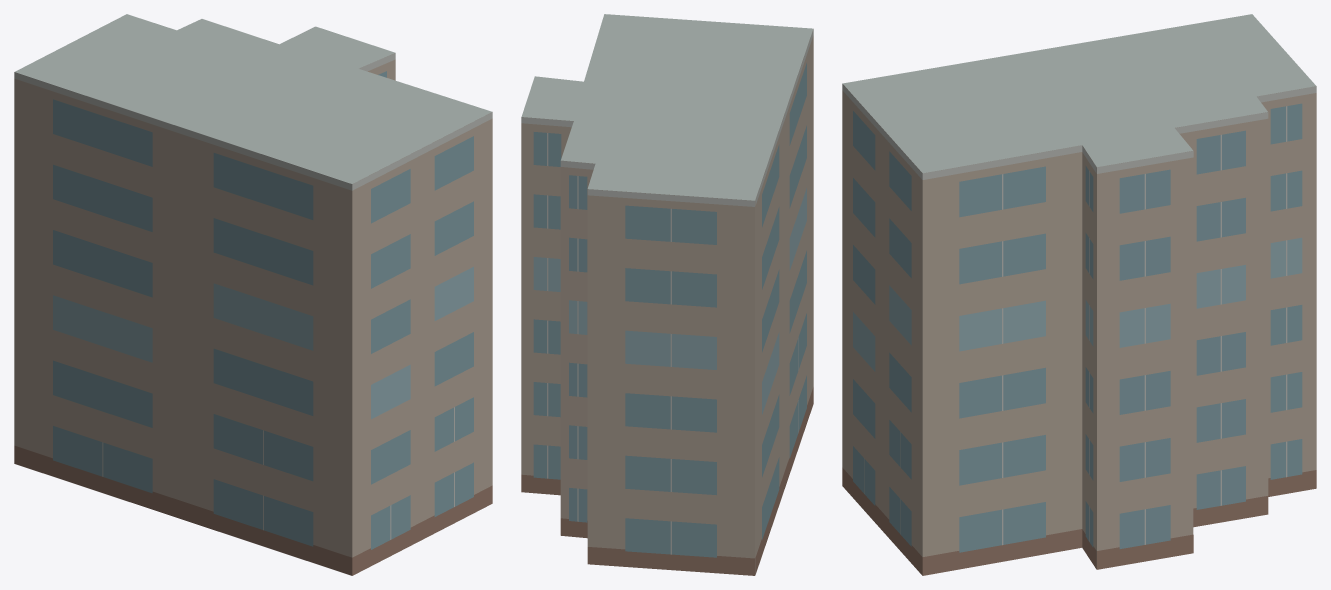
File: survey-upis-32850538.glb
The picture shows the model from 3 angles, left to right: view 1: azimuth 30°, elevation 25°; view 2: azimuth 150°, elevation 25°; view 3: azimuth 270°, elevation 25°; orthographic projection. The views are drawn at different scales.
Visible parts, largest first — view 1: survey-upis-32850538.tmp; view 2: survey-upis-32850538.tmp; view 3: survey-upis-32850538.tmp.
Part boxes in pixels (<box>): survey-upis-32850538.tmp: <box>14,14,492,575</box>; survey-upis-32850538.tmp: <box>521,14,813,575</box>; survey-upis-32850538.tmp: <box>842,14,1316,575</box>.
Size of the model in its own units: 12.32 by 14.5 by 15.49.
